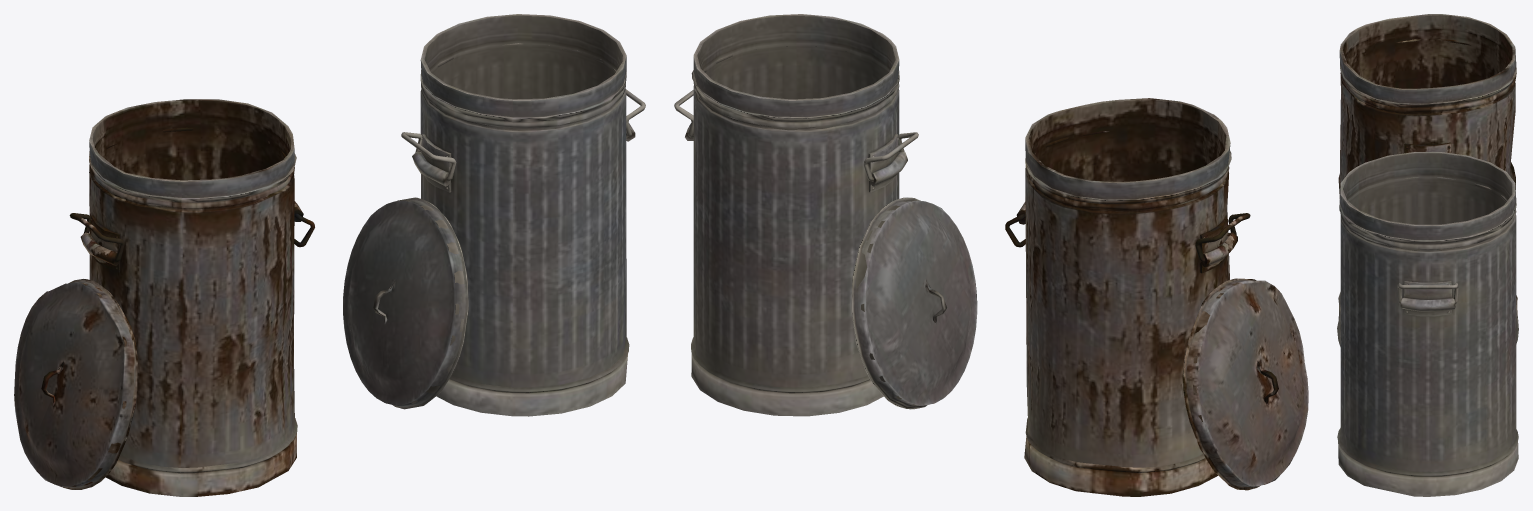
File: trashcan.glb
3 renders of one model, left to right at view 1: azimuth 30°, elevation 25°; view 2: azimuth 150°, elevation 25°; view 3: azimuth 270°, elevation 25°, orthographic. The views are drawn at different scales.
Visible parts, largest first — view 1: metal_trash_can, metal_trash_can_rust, metal_trash_can_lid, metal_trash_can_rust_lid; view 2: metal_trash_can, metal_trash_can_rust, metal_trash_can_lid, metal_trash_can_rust_lid; view 3: metal_trash_can, metal_trash_can_rust, metal_trash_can_handle_right.
Part boxes in pixels (left/top/right/bottom): metal_trash_can: left=412, top=14, right=635, bottom=416; metal_trash_can_rust: left=80, top=99, right=303, bottom=496; metal_trash_can_lid: left=343, top=197, right=468, bottom=409; metal_trash_can_rust_lid: left=14, top=279, right=137, bottom=489; metal_trash_can: left=685, top=14, right=907, bottom=416; metal_trash_can_rust: left=1016, top=98, right=1237, bottom=496; metal_trash_can_lid: left=851, top=197, right=977, bottom=409; metal_trash_can_rust_lid: left=1183, top=278, right=1308, bottom=490; metal_trash_can: left=1337, top=152, right=1518, bottom=496; metal_trash_can_rust: left=1338, top=14, right=1517, bottom=319; metal_trash_can_handle_right: left=1397, top=283, right=1458, bottom=303.
Bounding box in the file's own units: 1.78 × 0.9062 × 0.5539.
2 materials, 2 textured.
